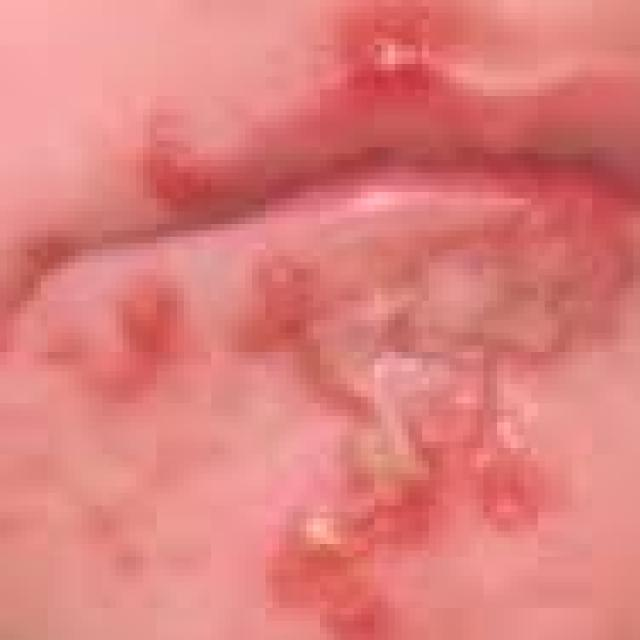burn: (234, 171, 639, 639), (150, 0, 459, 217), (17, 265, 213, 412)
